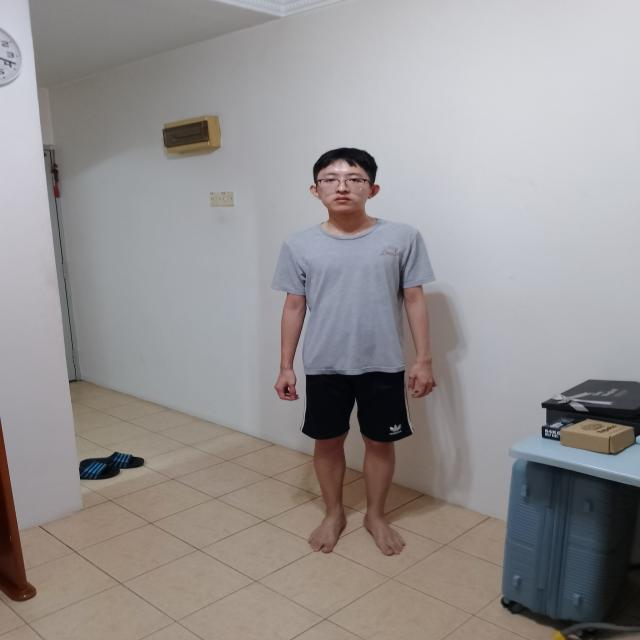person_without_labcoat: (272, 149, 436, 555)
